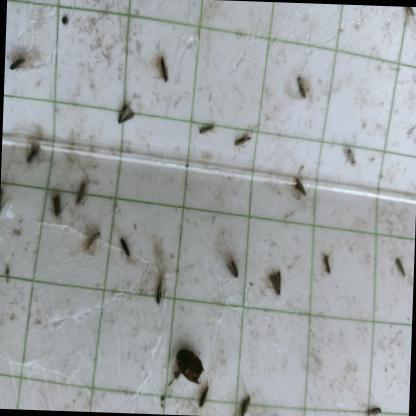prays_oleae: (152, 43, 176, 94), (226, 244, 250, 294), (287, 68, 315, 108), (338, 124, 358, 178), (7, 41, 32, 83), (229, 119, 254, 158), (22, 128, 46, 168), (286, 171, 314, 204), (112, 96, 136, 134), (116, 233, 139, 270), (152, 271, 170, 317), (262, 268, 286, 302), (80, 225, 102, 262), (76, 171, 92, 214), (196, 113, 219, 141), (394, 247, 410, 284), (50, 183, 63, 228), (320, 249, 340, 278), (197, 380, 214, 410), (365, 397, 386, 416), (239, 392, 253, 416)
